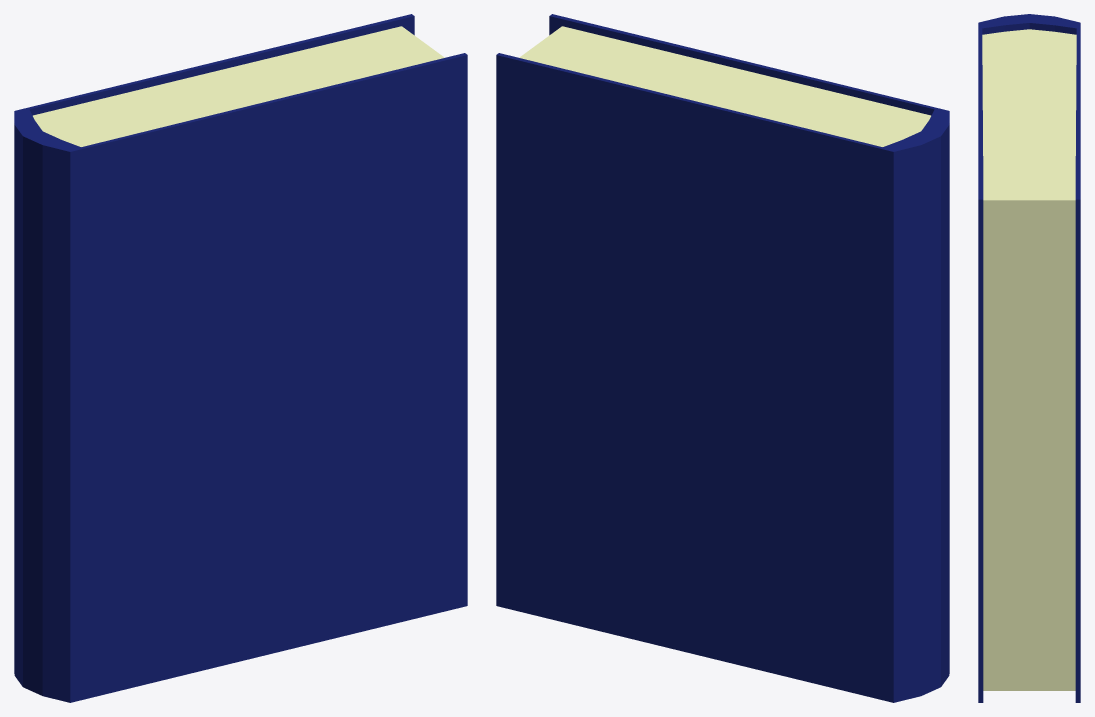
The model's file is Book_01.fbx.
3 renders of one model, left to right at view 1: azimuth 30°, elevation 25°; view 2: azimuth 150°, elevation 25°; view 3: azimuth 270°, elevation 25°, orthographic. The views are drawn at different scales.
Visible parts, largest first — view 1: Book_01; view 2: Book_01; view 3: Book_01.
Part boxes in pixels (x1,y1,x2,y2): Book_01: (14,14,467,702); Book_01: (496,14,949,702); Book_01: (978,14,1080,702).
Bounding box in the file's own units: 860 × 1086 × 200.
